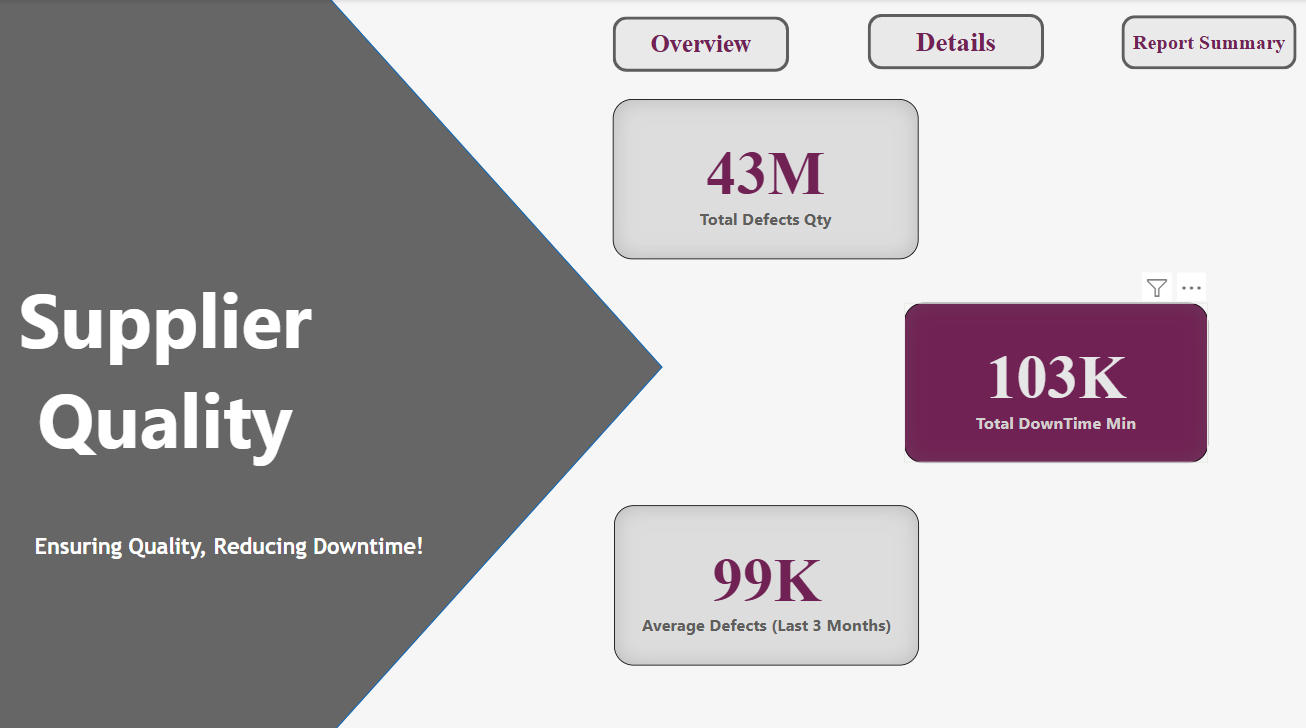

The dashboard page shown, as its layout file describes it:
{"tool":"powerbi","page":{"name":"Home","canvas":[1280,720],"ordinal":0},"visuals":[{"type":"shape","box":[0,0,649.2,720.2],"z":0},{"type":"actionButton","box":[600.8,16.9,172.4,54.1],"z":1000},{"type":"actionButton","box":[849.8,14.7,172.4,54.1],"z":2000},{"type":"actionButton","box":[1097.8,15.8,171.3,53],"z":3000},{"type":"card","fields":{"Values":["_Measure.Total Defects Qty"]},"box":[600.8,98.1,299.2,156.4],"z":4000},{"type":"card","fields":{"Values":["_Measure.Total DownTime Min"]},"box":[885.5,297.4,297.4,156.6],"z":5000},{"type":"card","fields":{"Values":["_Measure.Defect Rate (Last 3 Months)"]},"box":[601.3,494.7,298.7,156.6],"z":6000},{"type":"textbox","box":[15.8,518.4,418.4,40.8],"z":7000}]}

Visuals, with their boxes in screenshot pixels (x1, y1, x2, y2), scaled from the page's 1280x720 canvas onto the 1306x728 screenshot:
shape: 0/0/662/727
actionButton: 613/17/789/72
actionButton: 867/15/1043/70
actionButton: 1120/16/1295/70
card - _Measure.Total Defects Qty: 613/99/918/257
card - _Measure.Total DownTime Min: 903/301/1207/459
card - _Measure.Defect Rate (Last 3 Months): 614/500/918/659
textbox: 16/524/443/565
